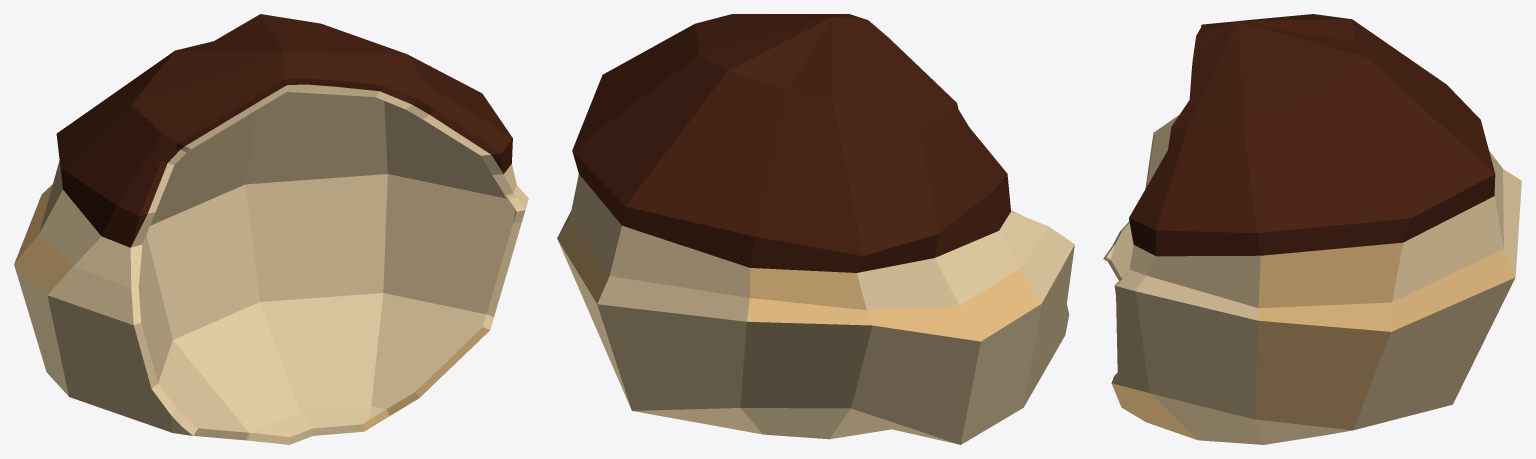
The model's file is ProfiteroleState4.fbx.
The picture shows the model from 3 angles, left to right: view 1: azimuth 30°, elevation 25°; view 2: azimuth 150°, elevation 25°; view 3: azimuth 270°, elevation 25°; orthographic projection. The views are drawn at different scales.
Parts seen in each view (by area): view 1: ProfiteroleState4; view 2: ProfiteroleState4; view 3: ProfiteroleState4.
Part boxes in pixels (<box>): ProfiteroleState4: <box>14,14,528,444</box>; ProfiteroleState4: <box>557,14,1074,444</box>; ProfiteroleState4: <box>1103,14,1521,444</box>.
Bounding box in the file's own units: 45.22 × 35.09 × 36.1.
